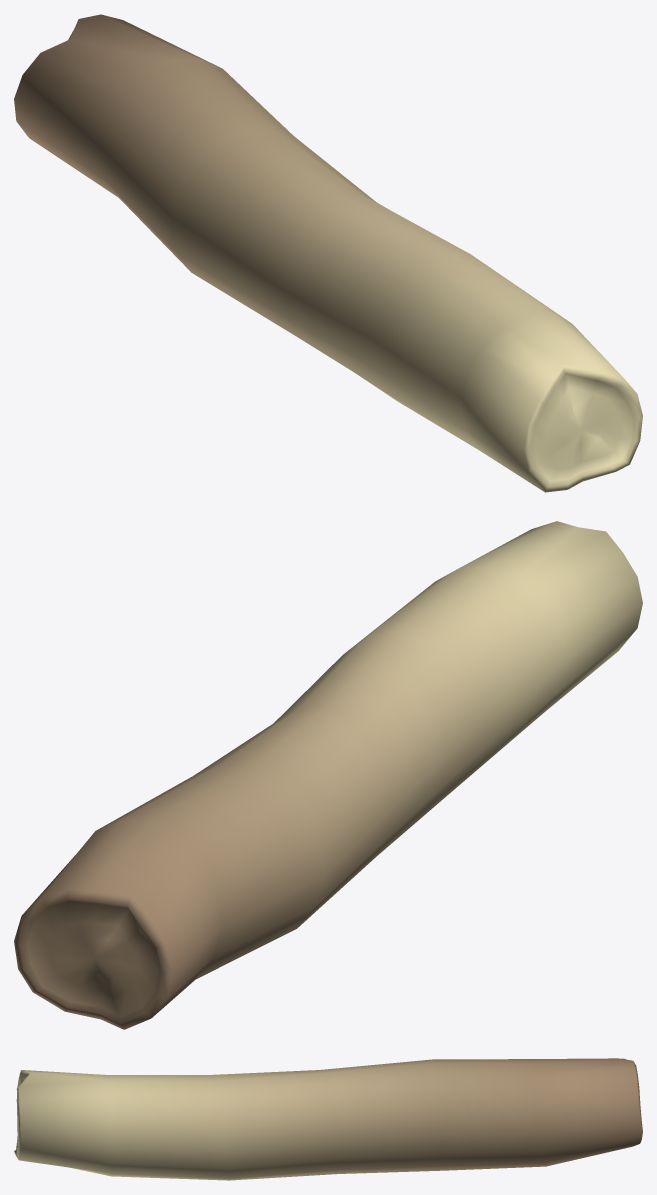
The model's file is WoodenLog-Capped-3.fbx.
3 renders of one model, top to bottom at view 1: azimuth 30°, elevation 25°; view 2: azimuth 150°, elevation 25°; view 3: azimuth 270°, elevation 25°, orthographic. The views are drawn at different scales.
Parts seen in each view (by area): view 1: Wood.006; view 2: Wood.006; view 3: Wood.006.
Part boxes in pixels (x1,y1,x2,y2): Wood.006: (14,14,642,492); Wood.006: (14,521,642,1029); Wood.006: (14,1058,642,1180).
Size of the model in its own units: 86.38 by 79 by 415.
